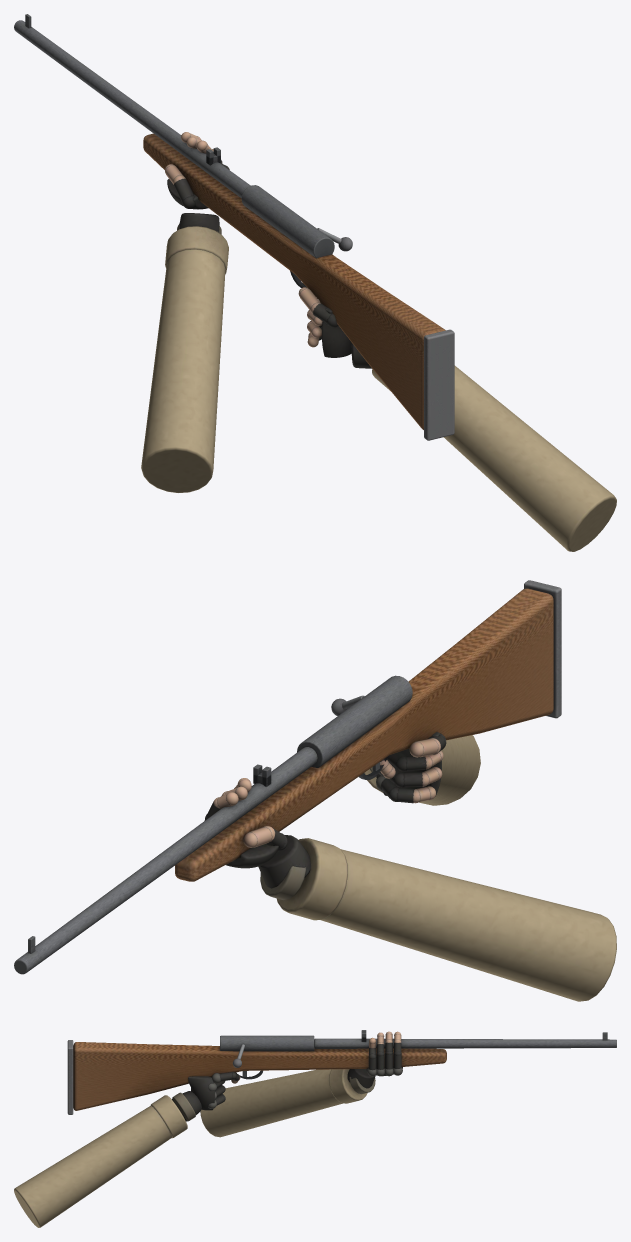
The model's file is jagt.glb.
The picture shows the model from 3 angles, top to bottom: view 1: azimuth 30°, elevation 25°; view 2: azimuth 150°, elevation 25°; view 3: azimuth 270°, elevation 25°; orthographic projection. The views are drawn at different scales.
Visible parts, largest first — view 1: hænder, jagt; view 2: hænder, jagt; view 3: hænder, jagt.
Boxes of the visible parts, x1,y1,x2,y2 form: hænder: (141,132,616,551); jagt: (14,14,454,440); hænder: (204,732,616,1001); jagt: (14,580,561,974); hænder: (14,1031,402,1227); jagt: (67,1030,616,1114).
Size of the model in its own units: 0.5162 by 0.3685 by 1.28.
2 materials, 2 textured.
